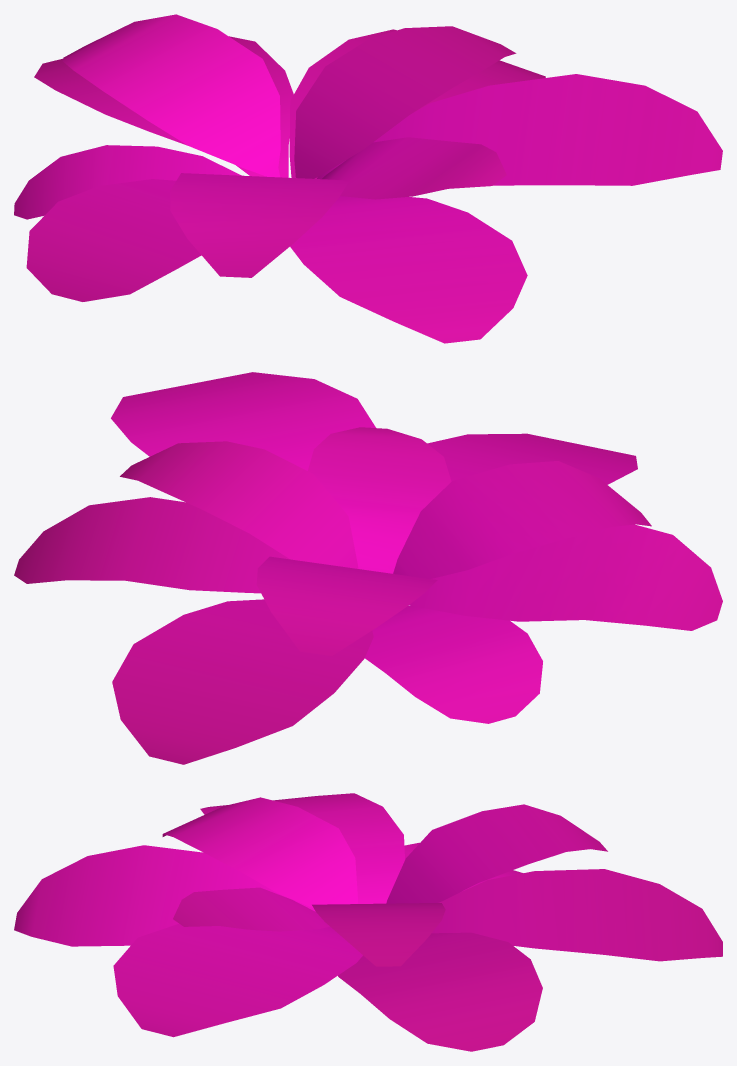
File: plant2_003.fbx
The picture shows the model from 3 angles, top to bottom: view 1: azimuth 30°, elevation 25°; view 2: azimuth 150°, elevation 25°; view 3: azimuth 270°, elevation 25°; orthographic projection. The views are drawn at different scales.
Visible parts, largest first — view 1: plant2.003; view 2: plant2.003; view 3: plant2.003.
Boxes of the visible parts, <box> form: plant2.003: <box>14,14,722,343</box>; plant2.003: <box>14,372,722,764</box>; plant2.003: <box>14,793,722,1051</box>.
Bounding box in the file's own units: 126 × 26.05 × 142.
